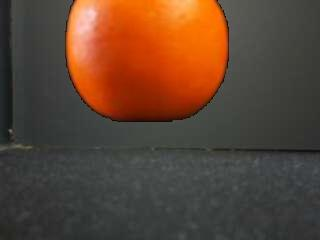Orange: (66, 0, 228, 123)
